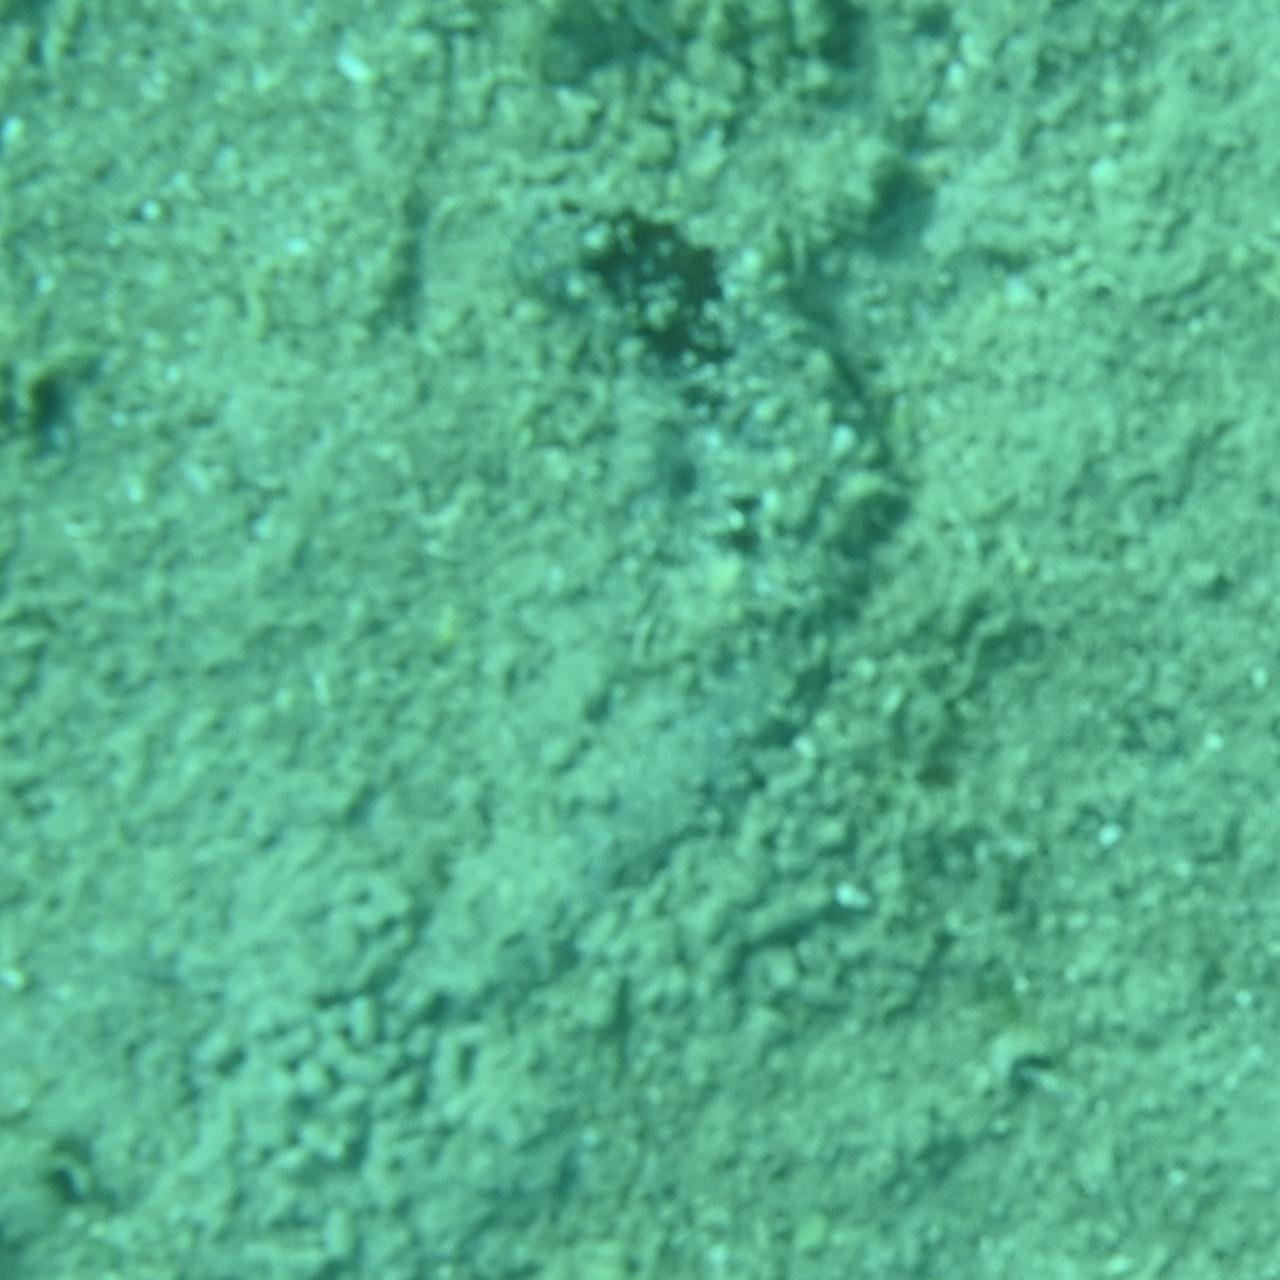Holothuria tubulosa: (371, 192, 909, 1088)
